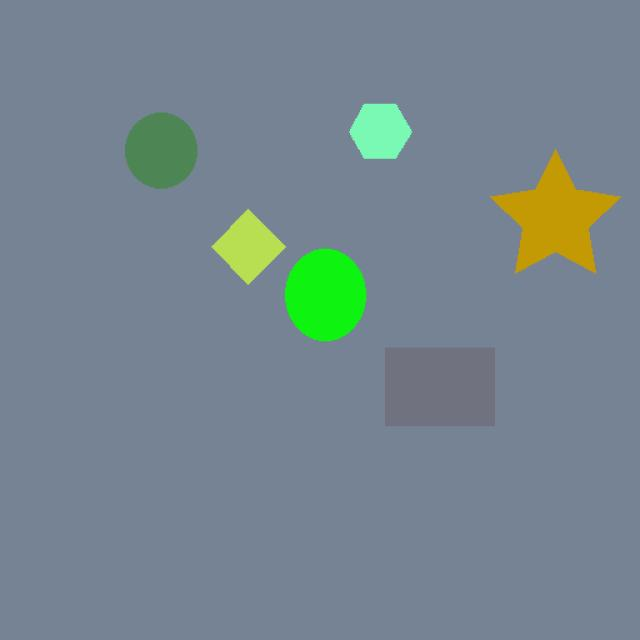Circle: (274, 246, 384, 347), (121, 99, 222, 207)
Hexagon: (335, 92, 439, 192)
Rectangle: (378, 336, 519, 439)
Star: (479, 122, 633, 308)
square: (201, 198, 289, 290)
